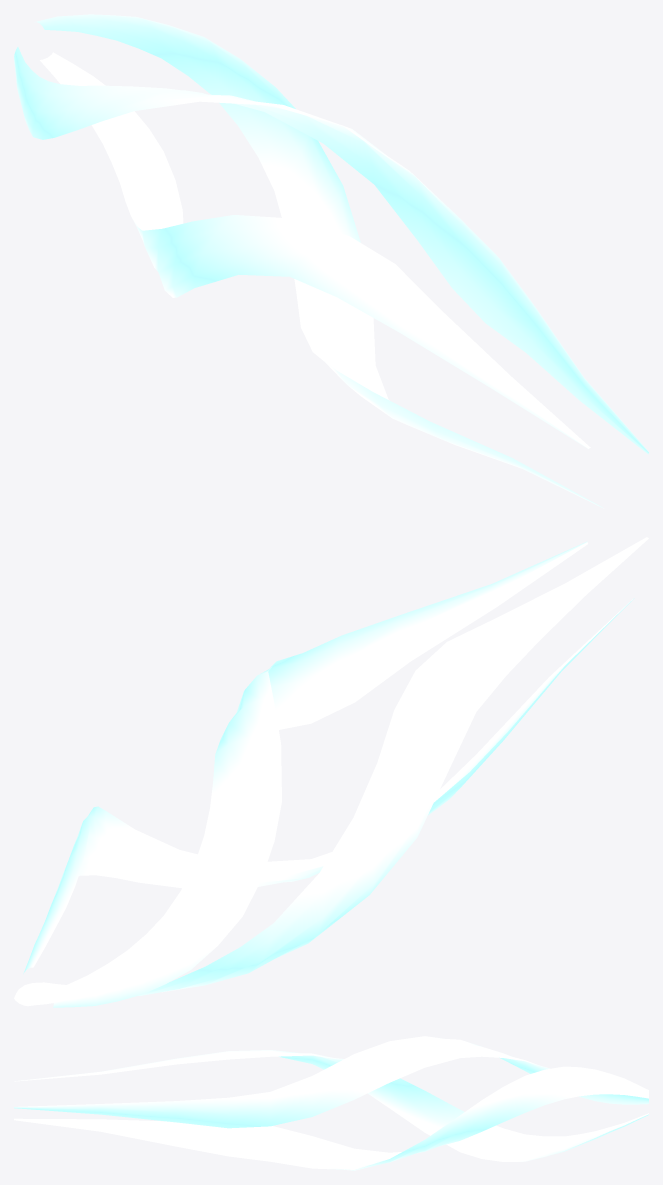
Rendered from magic_projectile.glb.
3 views of the same model, one above another, from view 1: azimuth 30°, elevation 25°; view 2: azimuth 150°, elevation 25°; view 3: azimuth 270°, elevation 25° (orthographic). The views are drawn at different scales.
Visible parts, largest first — view 1: Sphere; view 2: Sphere; view 3: Sphere.
Boxes of the visible parts, x1,y1,x2,y2 form: Sphere: (14, 14, 648, 508); Sphere: (14, 537, 648, 1007); Sphere: (14, 1036, 648, 1170).
Size of the model in its own units: 0.1689 by 0.1653 by 0.7958.
